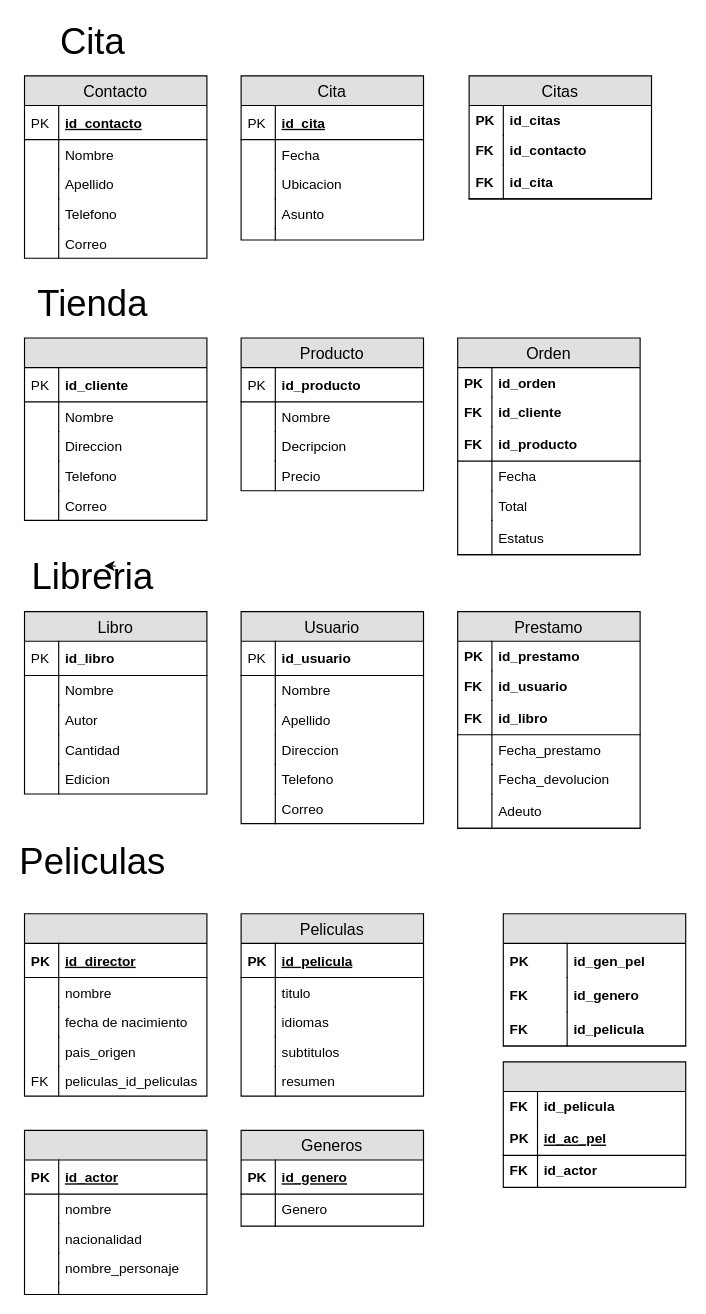
This 706x1314 diagram has some shape labels left out. Each missing label, with the box of its shape:
Actor_Peliculas: (502, 1061, 686, 1187)
Actores: (23, 1129, 207, 1294)
Clientes: (23, 337, 207, 520)
Directores: (23, 913, 207, 1096)
Genero_Pelicula: (502, 913, 686, 1046)
